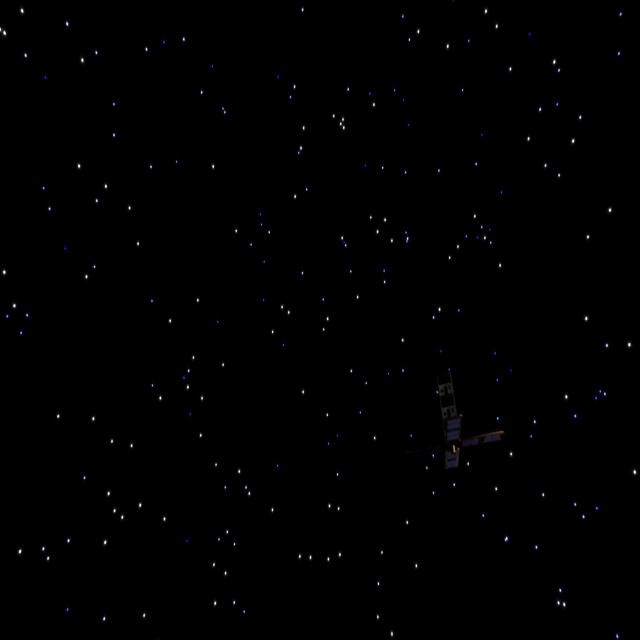satellite: (424, 369, 510, 468)
